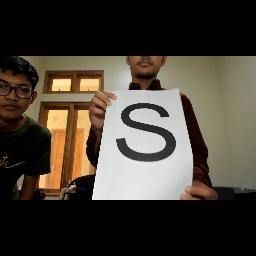s: (111, 100, 179, 166)
